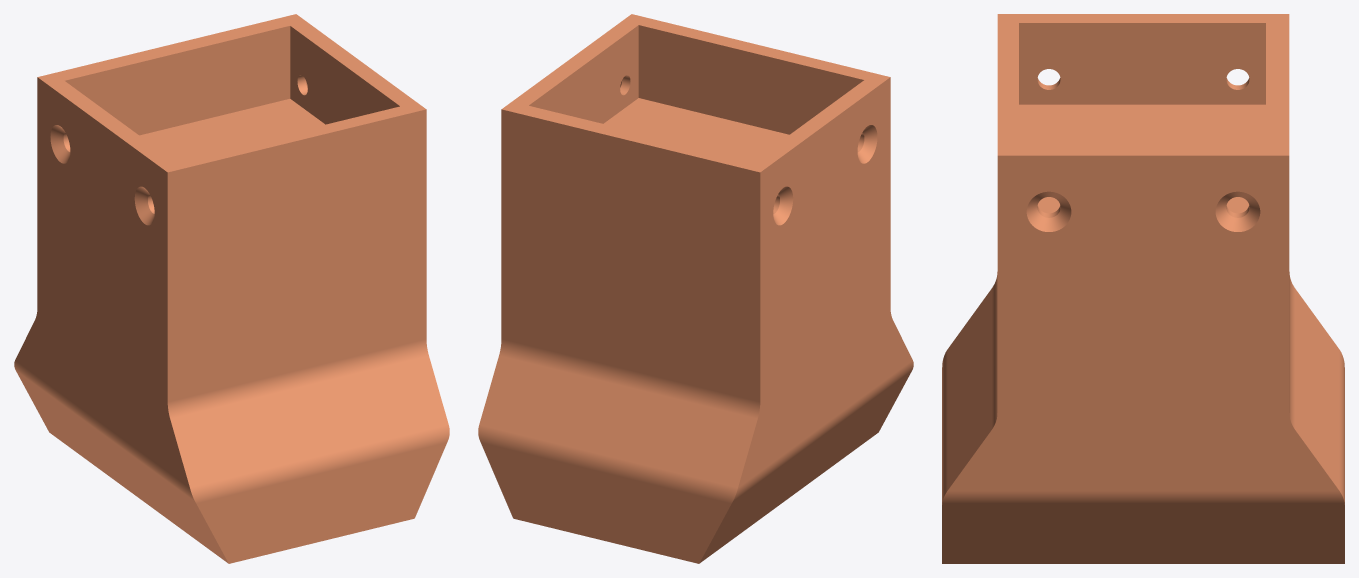
Rendered from Right Arm - Part 2 (3).gltf.
3 renders of one model, left to right at view 1: azimuth 30°, elevation 25°; view 2: azimuth 150°, elevation 25°; view 3: azimuth 270°, elevation 25°, orthographic. The views are drawn at different scales.
Parts seen in each view (by area): view 1: Part 2; view 2: Part 2; view 3: Part 2.
Boxes of the visible parts, x1,y1,x2,y2 form: Part 2: (14, 14, 449, 563); Part 2: (478, 14, 913, 563); Part 2: (942, 14, 1344, 563).
Bounding box in the file's own units: 0.039 × 0.055 × 0.0469.
